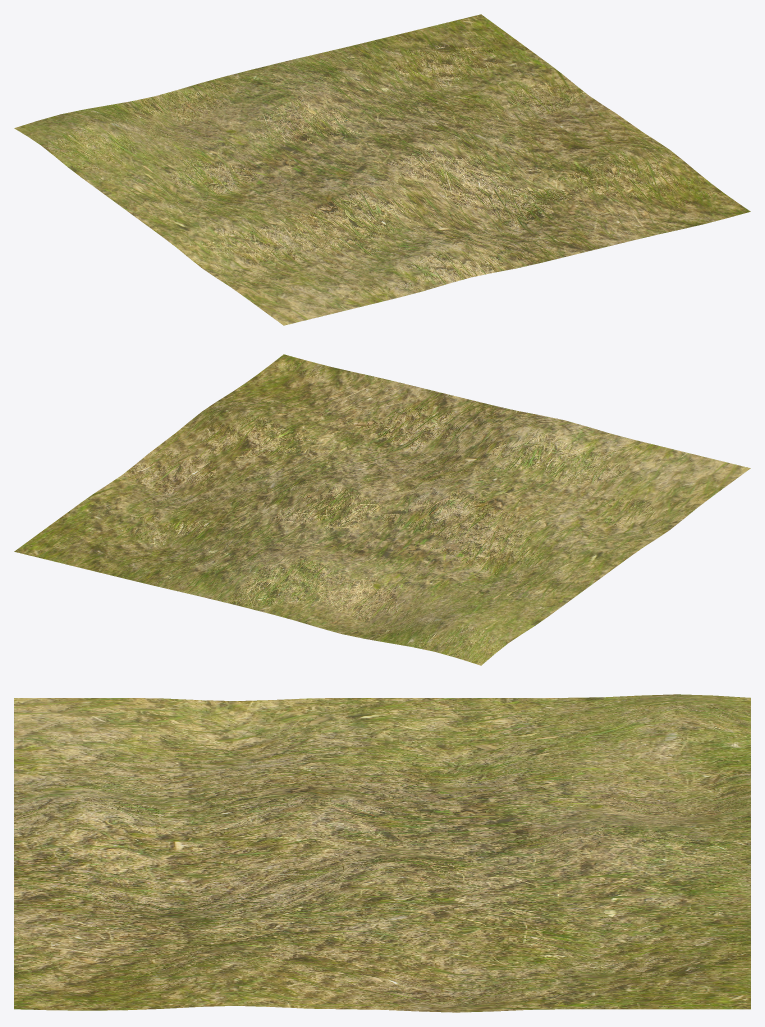
Rendered from ground.fbx.
3 views of the same model, one above another, from view 1: azimuth 30°, elevation 25°; view 2: azimuth 150°, elevation 25°; view 3: azimuth 270°, elevation 25° (orthographic). The views are drawn at different scales.
Visible parts, largest first — view 1: pPlane1; view 2: pPlane1; view 3: pPlane1.
Boxes of the visible parts, x1,y1,x2,y2 form: pPlane1: [14, 14, 750, 325]; pPlane1: [14, 354, 750, 665]; pPlane1: [14, 694, 750, 1012].
Size of the model in its own units: 50 by 2.7 by 50.
Materials: 1 (1 with a texture image).
